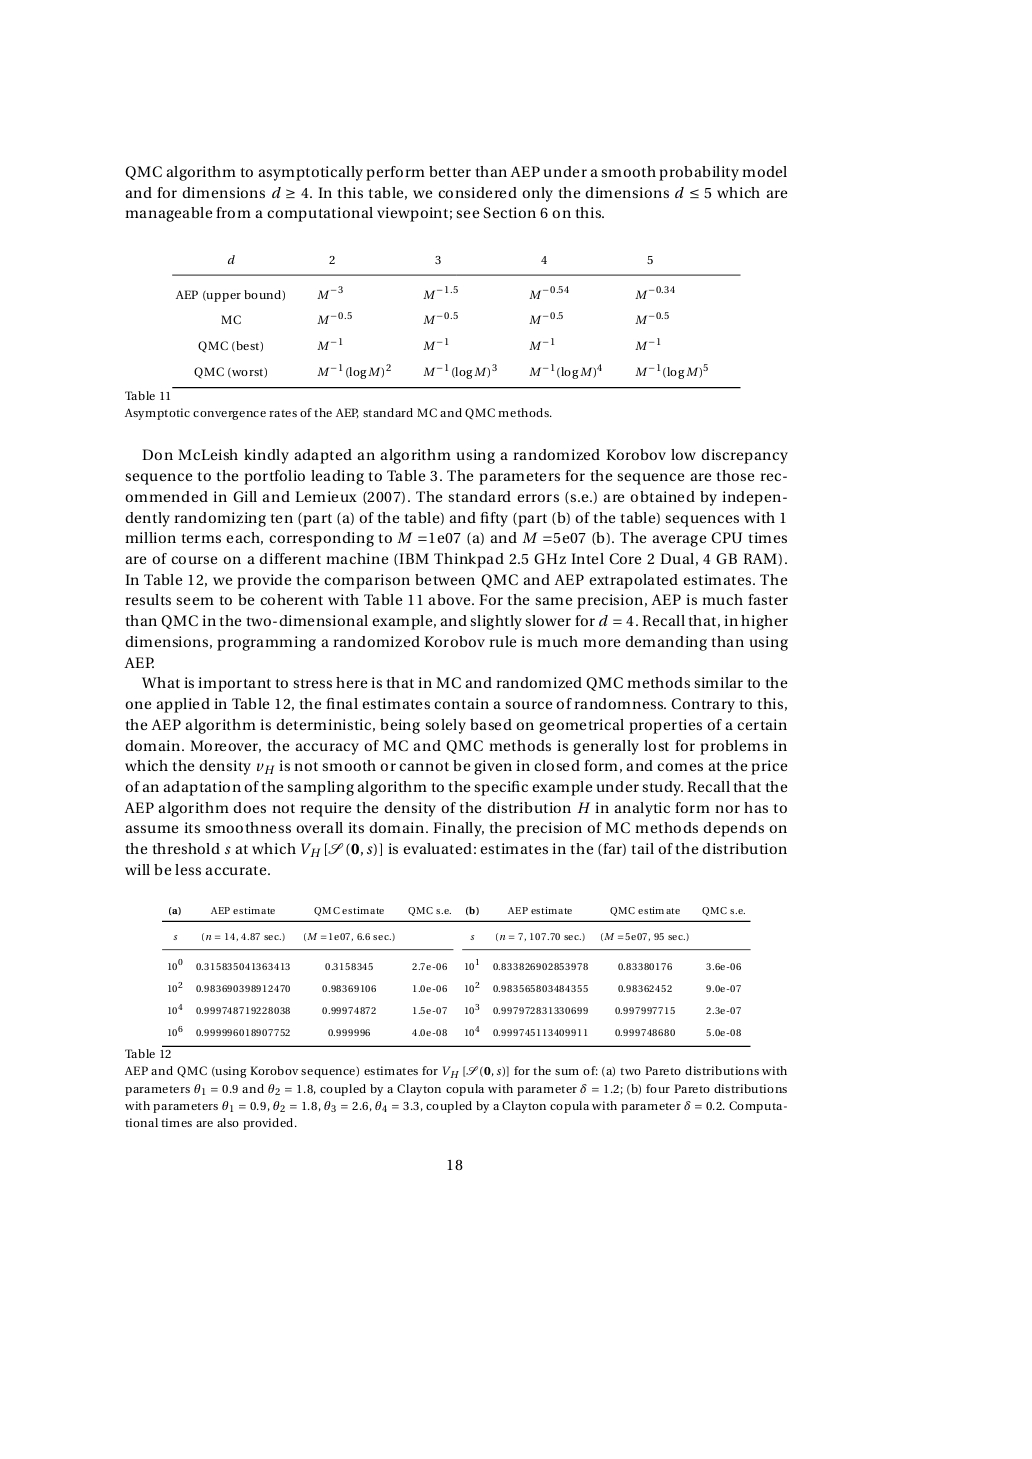Table: (125, 906, 751, 1058), (125, 255, 740, 400)
